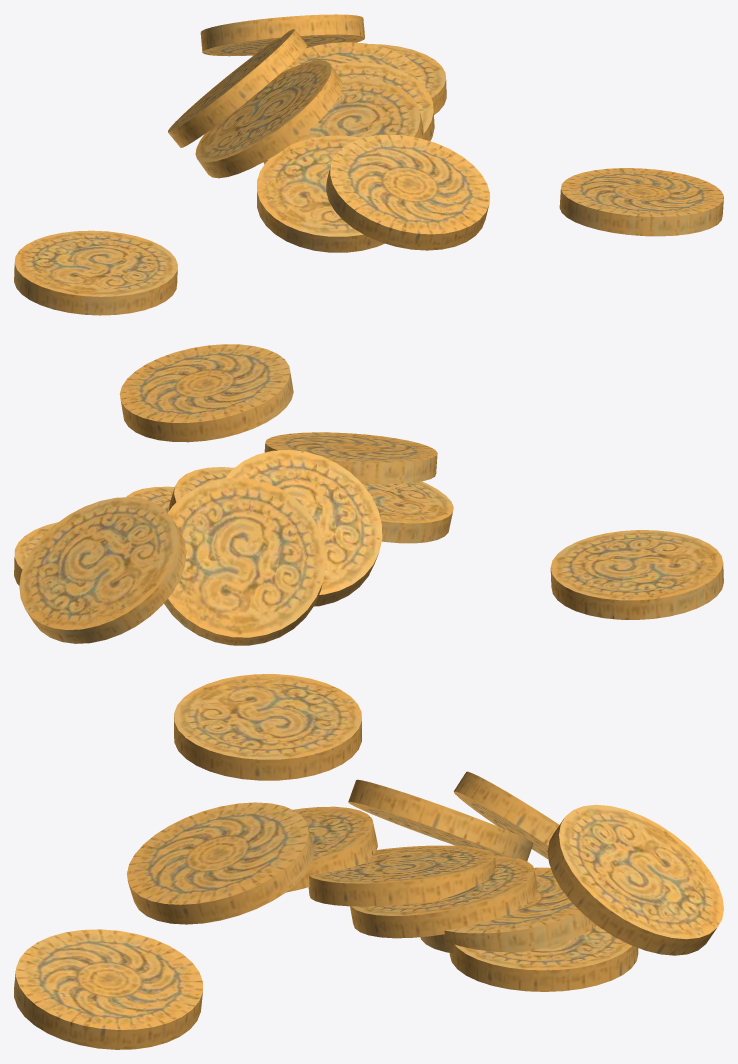
File: gold_coins.glb
3 views of the same model, one above another, from view 1: azimuth 30°, elevation 25°; view 2: azimuth 150°, elevation 25°; view 3: azimuth 270°, elevation 25° (orthographic). The views are drawn at different scales.
Visible parts, largest first — view 1: SM_AncientCoin_02.001; view 2: SM_AncientCoin_02.001; view 3: SM_AncientCoin_02.001.
Part boxes in pixels (x1=…): SM_AncientCoin_02.001: x1=14, y1=14, x2=723, y2=315; SM_AncientCoin_02.001: x1=14, y1=344, x2=723, y2=645; SM_AncientCoin_02.001: x1=14, y1=674, x2=723, y2=1049.
Size of the model in its own units: 0.2644 by 0.0467 by 0.2279.
Materials: 1 (1 with a texture image).
